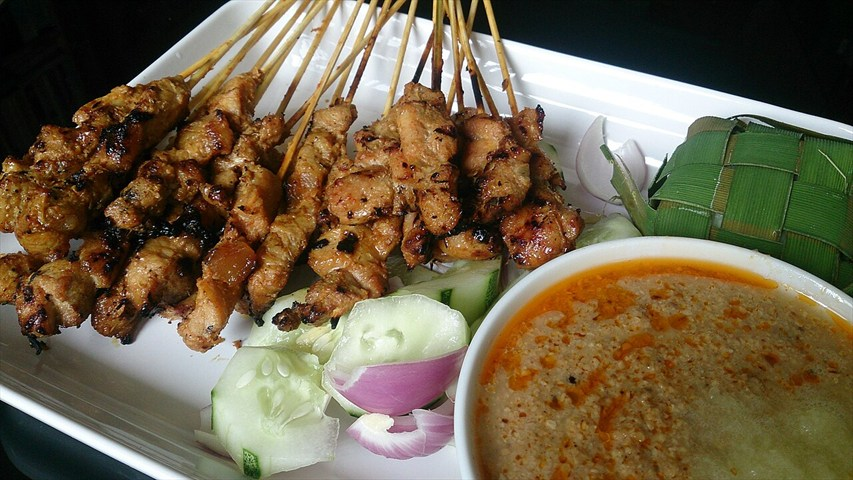Sate Ayam: (109, 10, 766, 449)
